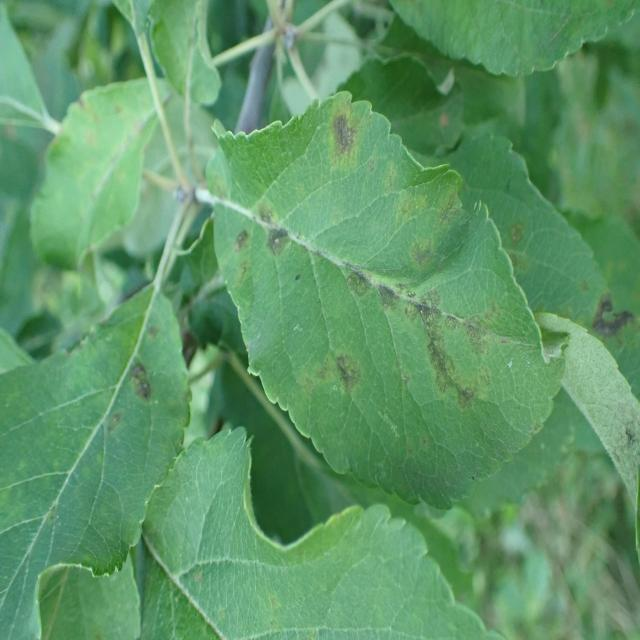scab: (210, 84, 546, 444), (71, 286, 187, 550)
